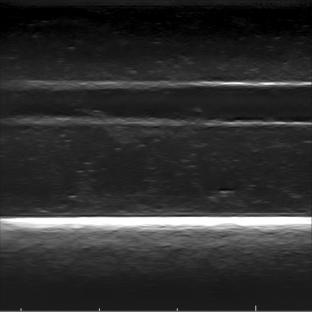vessel: (26, 79, 308, 129)
